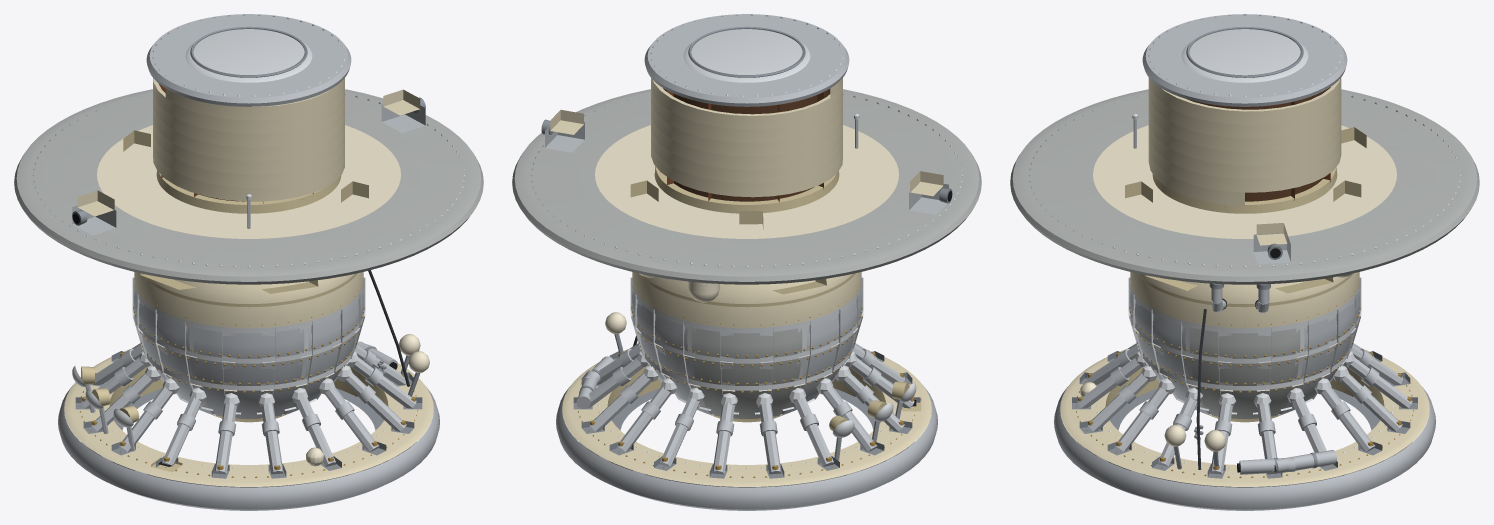
File: venera-9.glb
3 views of the same model, side by side, from view 1: azimuth 30°, elevation 25°; view 2: azimuth 150°, elevation 25°; view 3: azimuth 270°, elevation 25° (orthographic).
Parts seen in each view (by area): view 1: body; view 2: body; view 3: body.
Part boxes in pixels (x1=…): body: x1=14, y1=14, x2=483, y2=510; body: x1=512, y1=14, x2=981, y2=510; body: x1=1010, y1=14, x2=1479, y2=510.
Size of the model in its own units: 2.22 by 2.01 by 2.22.
